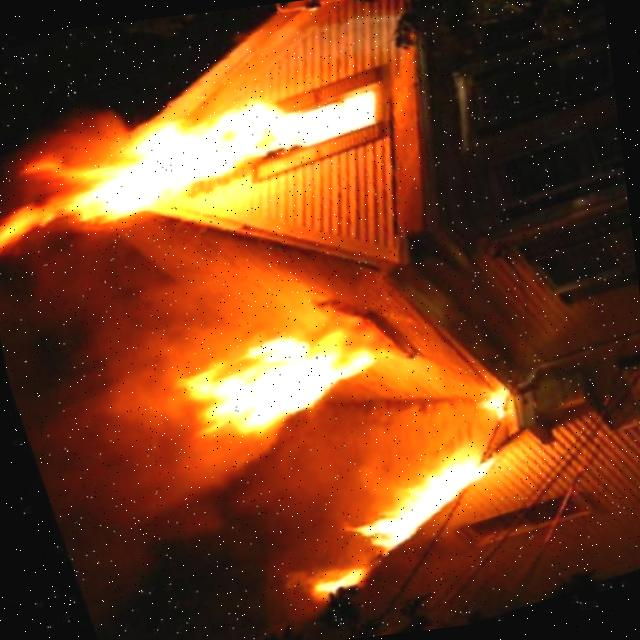fire: (0, 25, 403, 278), (155, 284, 408, 480), (320, 433, 515, 583)
